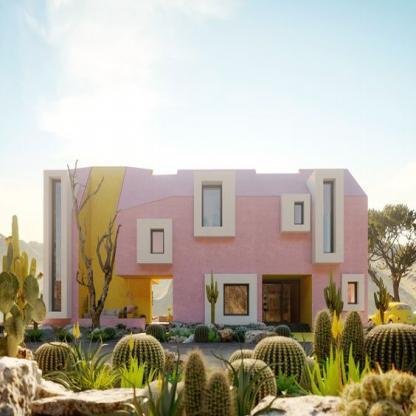Balcony: (117, 275, 173, 326), (262, 275, 311, 326)
Building Outline: (44, 166, 368, 328)
Door: (264, 282, 300, 323)
Facade: (43, 166, 369, 329)
Window: (52, 179, 62, 311), (202, 185, 221, 226), (224, 284, 249, 315), (324, 183, 333, 252), (151, 232, 163, 253), (348, 283, 356, 304), (295, 205, 302, 223)
